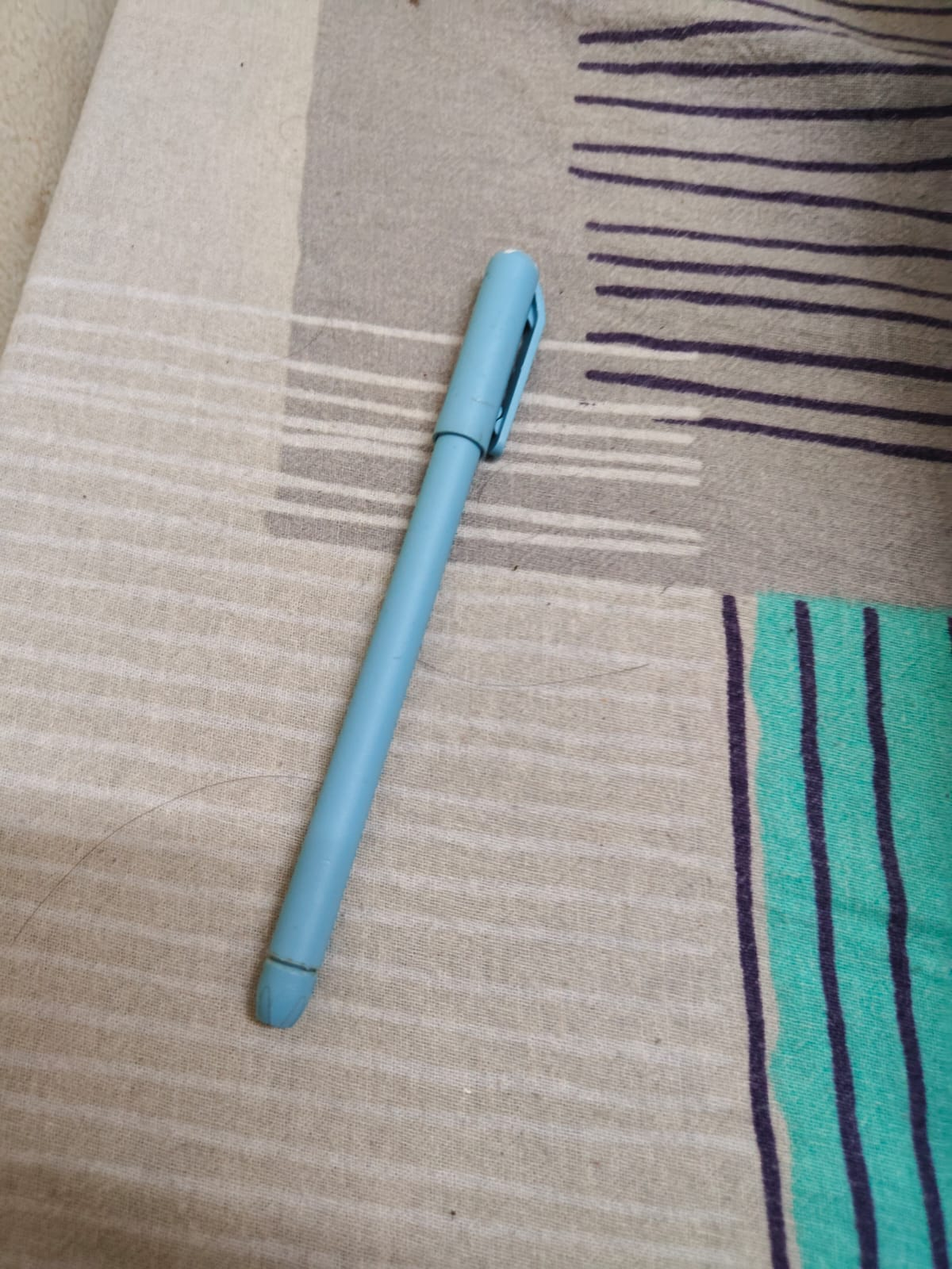pen: (231, 228, 593, 1041)
